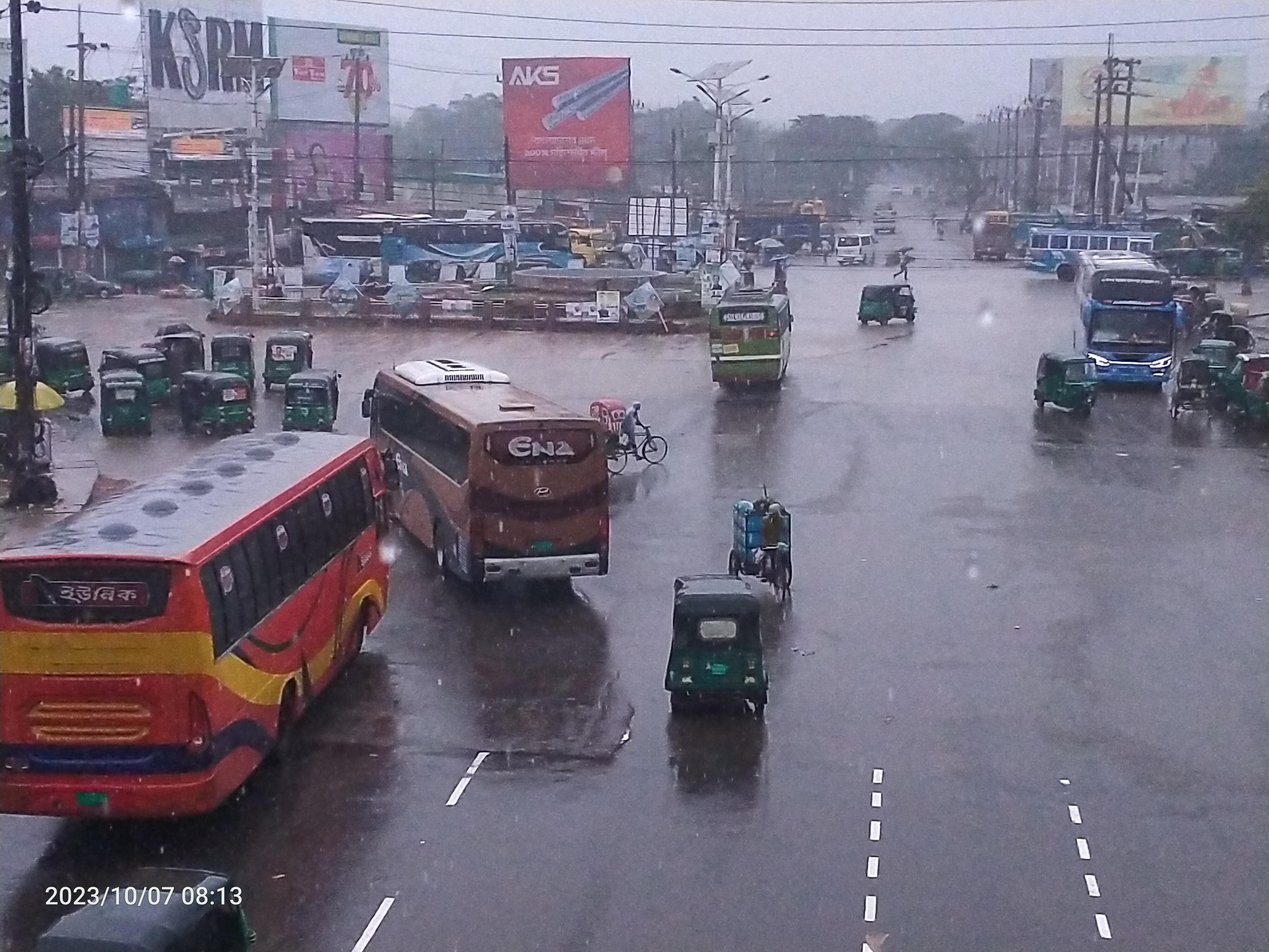Bus: (47, 406, 406, 822), (357, 352, 657, 624), (365, 205, 600, 317), (1071, 243, 1189, 409), (695, 269, 811, 409), (1020, 216, 1183, 284), (281, 196, 382, 294)
Car: (706, 479, 801, 600), (569, 388, 680, 483), (1153, 343, 1218, 436), (825, 216, 879, 273)
